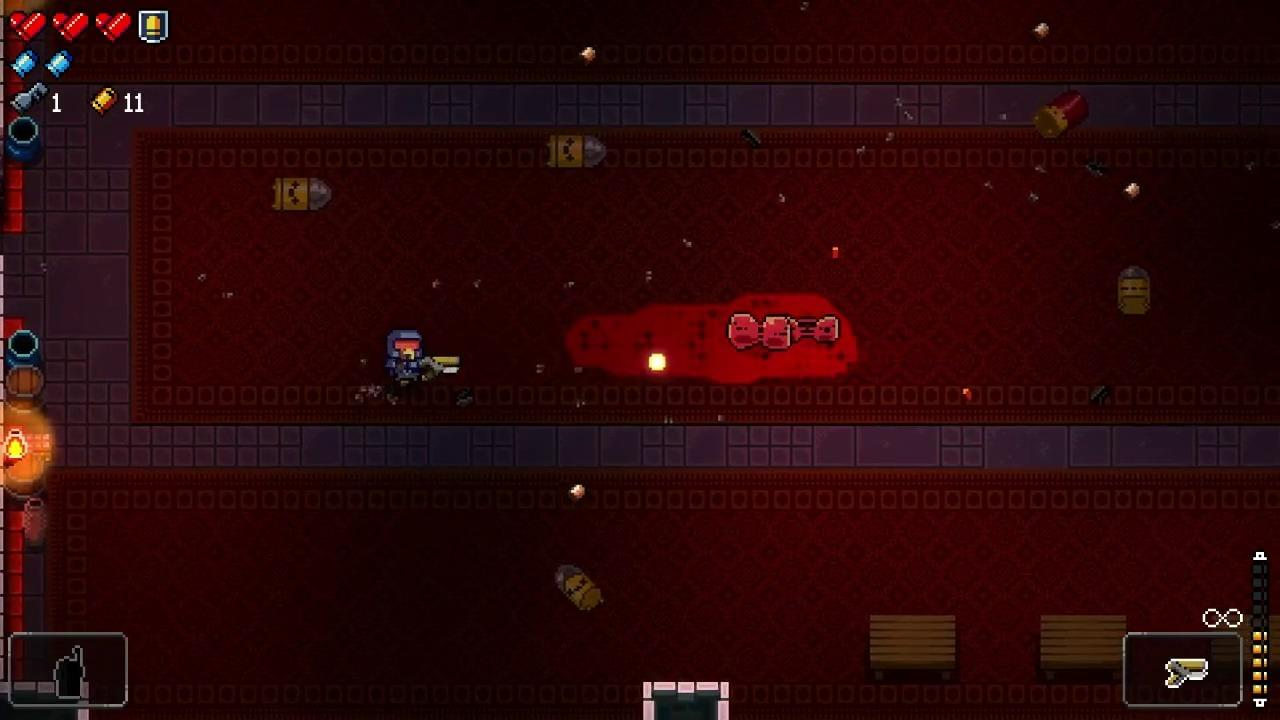blobulin_s: (727, 312, 762, 351), (763, 314, 796, 353), (728, 312, 760, 350), (760, 314, 792, 352), (816, 316, 841, 344)
bullet_kin: (556, 563, 603, 613)
dead_bullet_kin: (546, 135, 610, 169), (269, 179, 333, 210), (1118, 265, 1153, 318)
player: (385, 330, 423, 386), (386, 331, 424, 383)
table: (869, 618, 954, 683), (1042, 617, 1127, 678)
